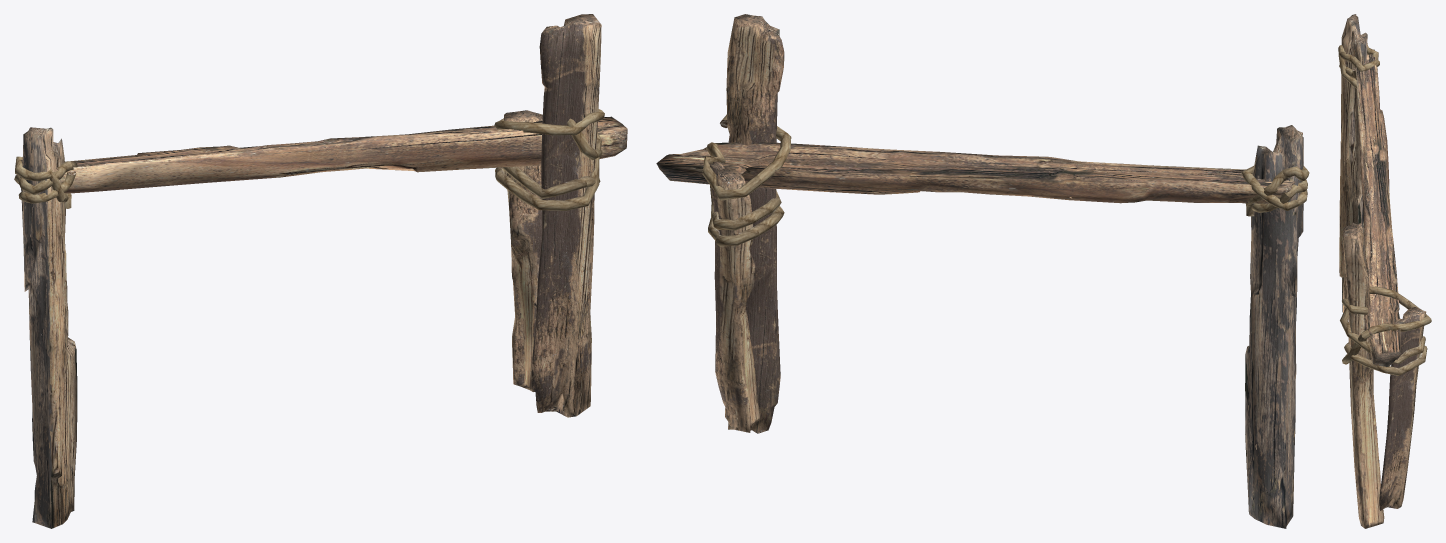
File: fence2_lod0.FBX
The picture shows the model from 3 angles, left to right: view 1: azimuth 30°, elevation 25°; view 2: azimuth 150°, elevation 25°; view 3: azimuth 270°, elevation 25°; orthographic projection. The views are drawn at different scales.
Visible parts, largest first — view 1: fence2_lod0; view 2: fence2_lod0; view 3: fence2_lod0.
Boxes of the visible parts, left/top/right/bottom form: fence2_lod0: left=14, top=14, right=627, bottom=528; fence2_lod0: left=656, top=14, right=1309, bottom=528; fence2_lod0: left=1338, top=14, right=1431, bottom=528.
Size of the model in its own units: 295 by 192 by 51.71.
